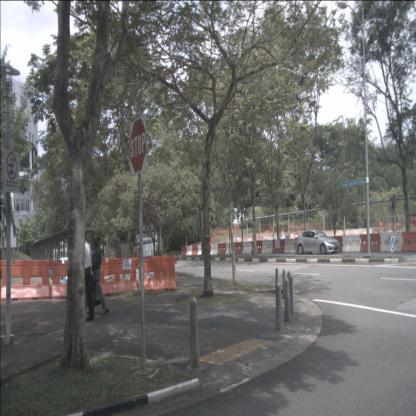human-pedestrian-adult: (76, 227, 96, 322), (87, 234, 110, 316)
movable_object-barrier: (0, 259, 53, 301), (50, 259, 92, 299), (98, 258, 138, 295), (139, 257, 176, 292), (380, 232, 403, 252), (360, 234, 381, 252), (342, 235, 361, 253), (401, 231, 416, 253), (330, 236, 343, 253), (272, 239, 285, 253), (284, 239, 297, 253), (261, 239, 273, 254), (251, 240, 262, 254), (225, 242, 235, 255), (242, 241, 252, 254), (202, 243, 211, 256), (210, 243, 218, 256), (218, 243, 226, 255), (235, 242, 242, 254), (180, 245, 187, 256), (192, 244, 198, 256), (186, 245, 192, 256), (197, 244, 202, 256)
movable_object-trafficcone: (155, 243, 158, 254)
vehicle-car: (294, 229, 339, 255)
